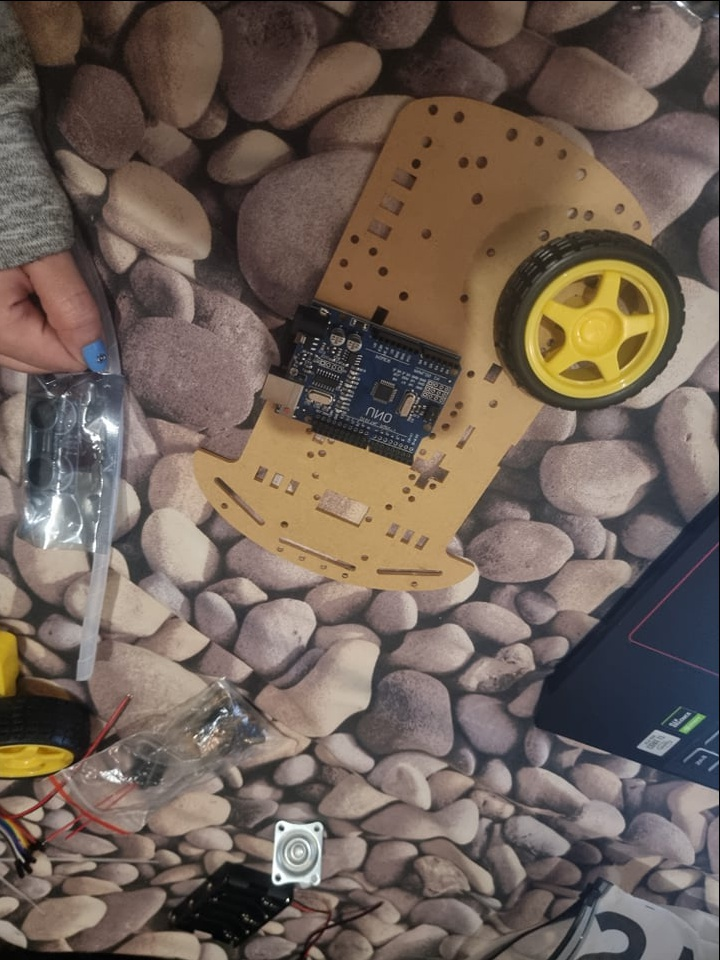BATTERY BOX: (169, 859, 300, 947)
SENSOR: (23, 386, 83, 495)
UNO R3: (256, 299, 463, 470)
